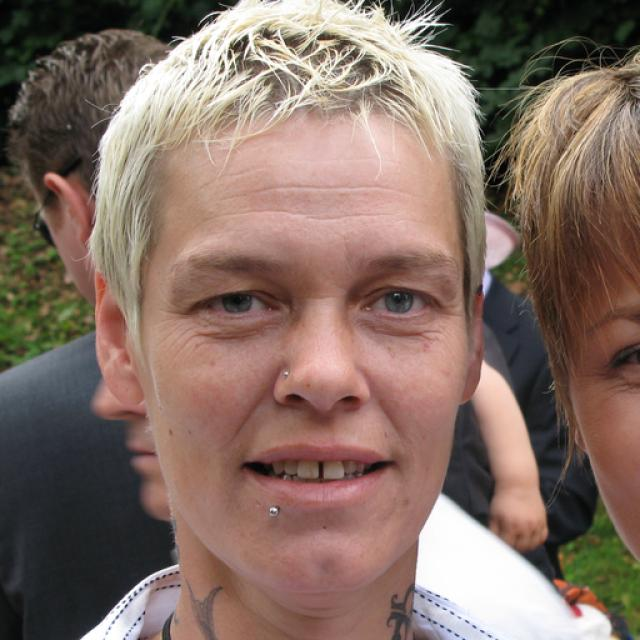Wrinkle: (219, 179, 421, 203), (198, 204, 307, 222), (194, 164, 254, 193), (308, 209, 385, 221)
